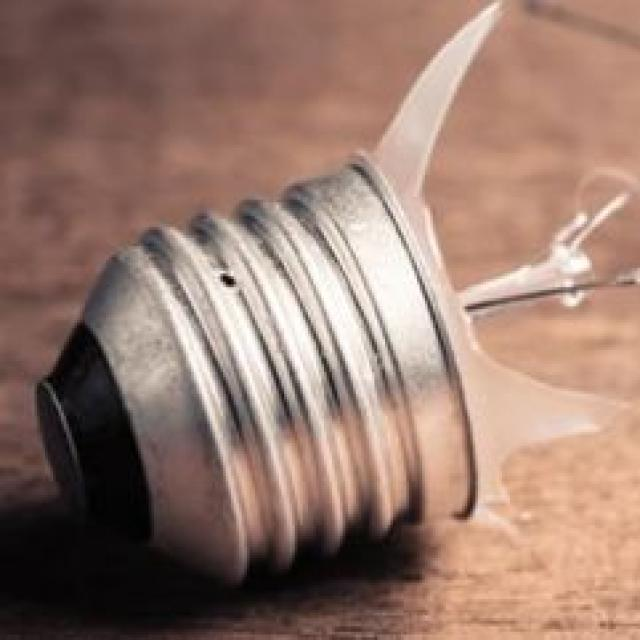electronic: (32, 0, 637, 588)
